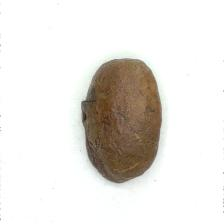NG: (78, 91, 98, 131)
